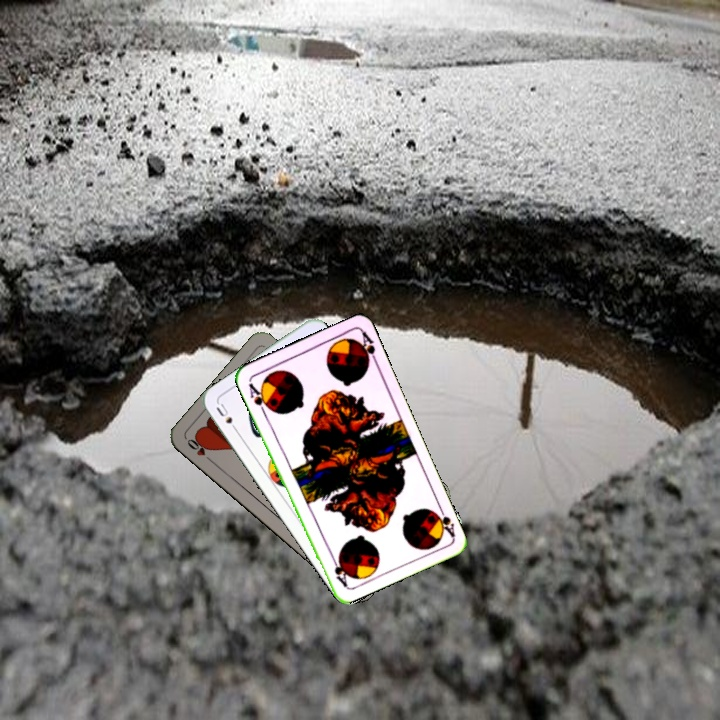HO: (183, 434, 216, 466)
SA: (428, 501, 458, 540), (244, 379, 273, 416)
SU: (212, 399, 241, 435)
